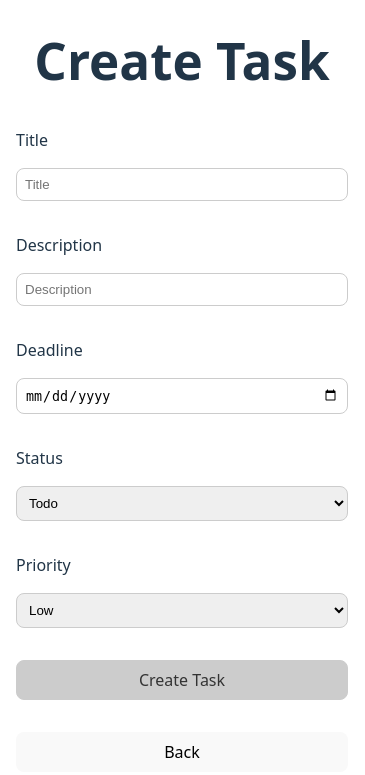
Test: CreateTaskPage › should show the toast when the task is created successfully
In the field with placeholder "Title": (182, 185) [16,168,348,202], type "Test Task"
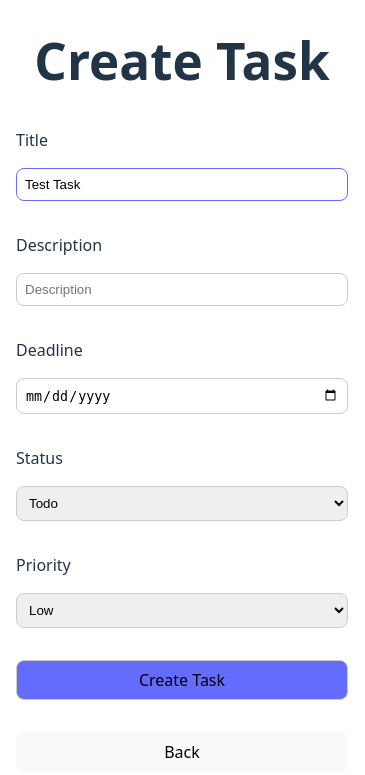
In the date field labelled "Deadline": (182, 396) [16,378,348,414], type "2099-12-31"
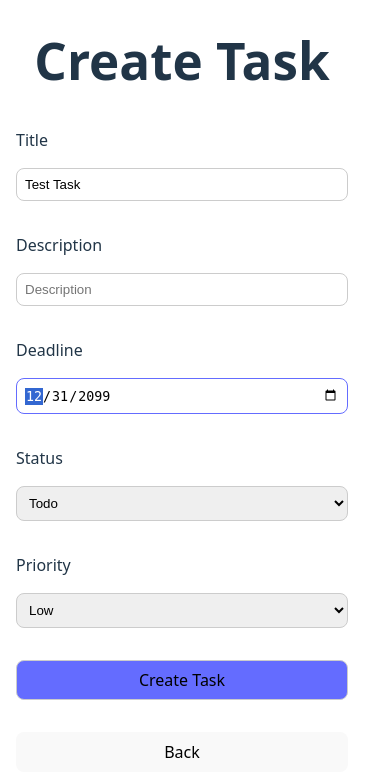
Click the button "Create Task": (182, 680) [16,660,348,700]
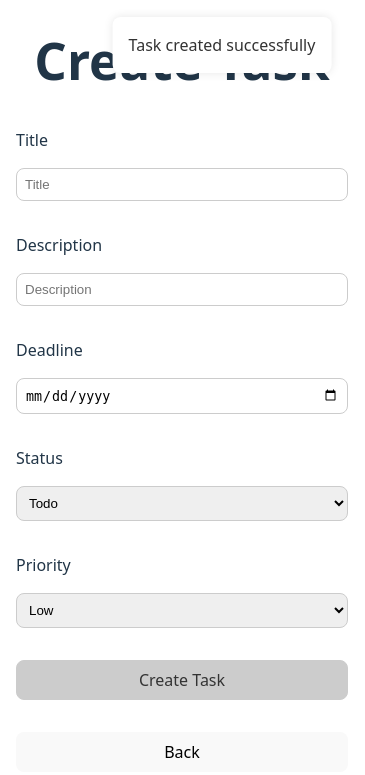
expect the text "Task created successfully" is shown: met, box [129,33,315,57]
